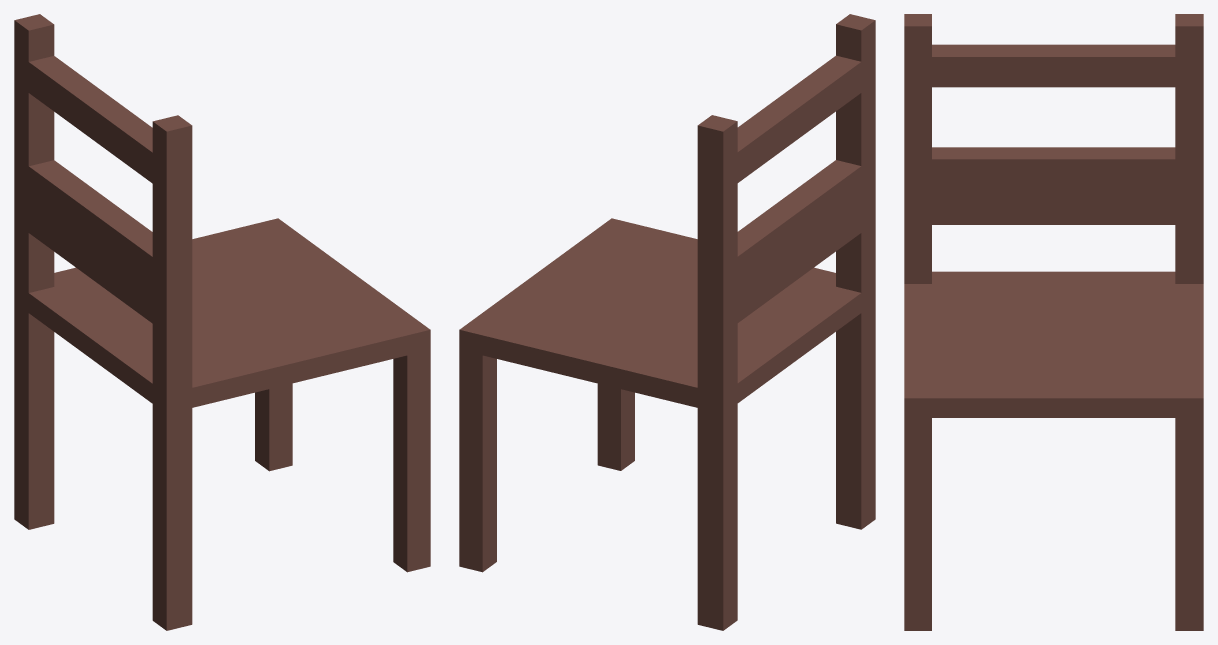
File: chair.fbx
3 renders of one model, left to right at view 1: azimuth 30°, elevation 25°; view 2: azimuth 150°, elevation 25°; view 3: azimuth 270°, elevation 25°, orthographic.
Parts seen in each view (by area): view 1: Krzeslo; view 2: Krzeslo; view 3: Krzeslo.
Boxes of the visible parts, x1,y1,x2,y2 form: Krzeslo: (14,14,430,630); Krzeslo: (459,14,875,630); Krzeslo: (904,14,1203,630).
Size of the model in its own units: 200 by 362 by 200.
